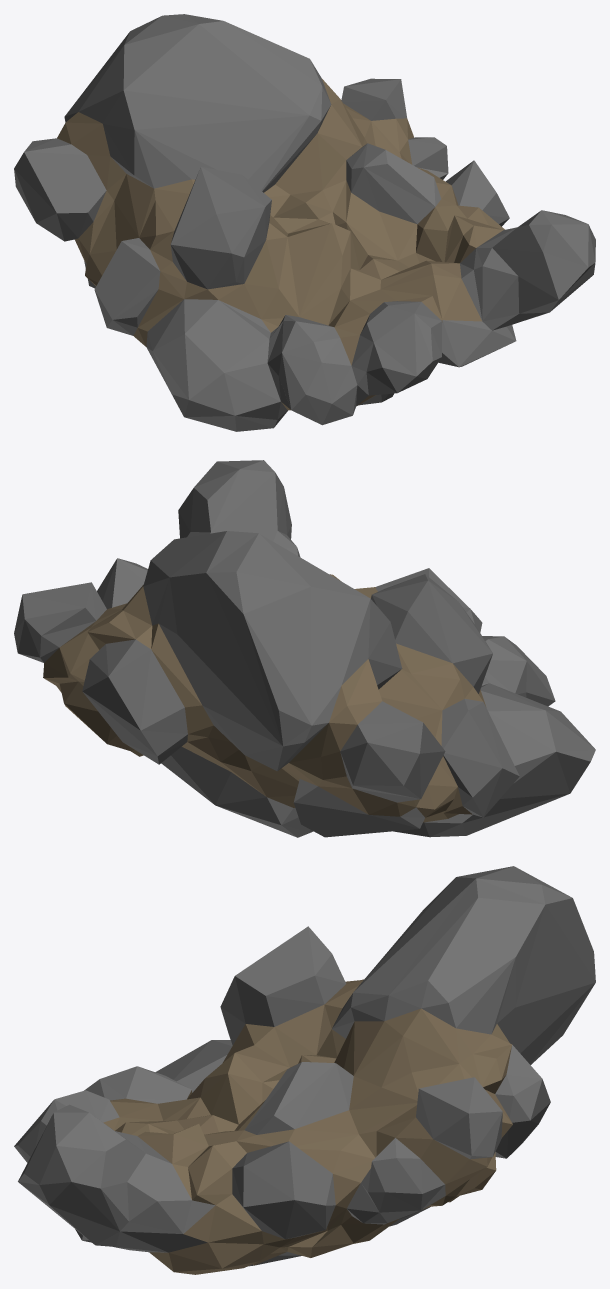
File: SM_LP_StoneNode_1.fbx
3 views of the same model, one above another, from view 1: azimuth 30°, elevation 25°; view 2: azimuth 150°, elevation 25°; view 3: azimuth 270°, elevation 25° (orthographic). The views are drawn at different scales.
Parts seen in each view (by area): view 1: SM_LP_StoneNode_1; view 2: SM_LP_StoneNode_1; view 3: SM_LP_StoneNode_1.
Boxes of the visible parts, bbox=[...] form: SM_LP_StoneNode_1: bbox=[14, 14, 595, 431]; SM_LP_StoneNode_1: bbox=[14, 460, 595, 837]; SM_LP_StoneNode_1: bbox=[14, 866, 595, 1274].
Size of the model in its own units: 1.23 by 0.923 by 1.36.
